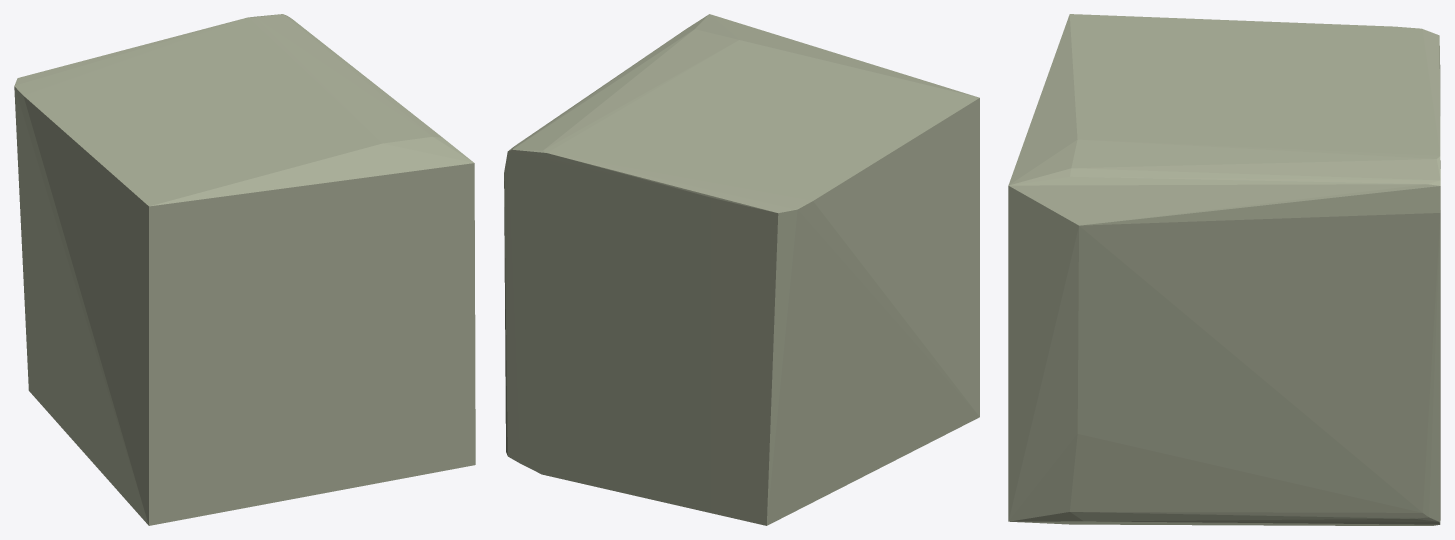
The model's file is screen_hospital_b01.glb.
The picture shows the model from 3 angles, left to right: view 1: azimuth 30°, elevation 25°; view 2: azimuth 150°, elevation 25°; view 3: azimuth 270°, elevation 25°; orthographic projection. The views are drawn at different scales.
Parts seen in each view (by area): view 1: geometry_0; view 2: geometry_0; view 3: geometry_0.
Part boxes in pixels (x1=…): geometry_0: x1=14, y1=14, x2=475, y2=525; geometry_0: x1=504, y1=14, x2=979, y2=525; geometry_0: x1=1008, y1=14, x2=1440, y2=525.
Size of the model in its own units: 0.4495 by 0.446 by 0.4798.
